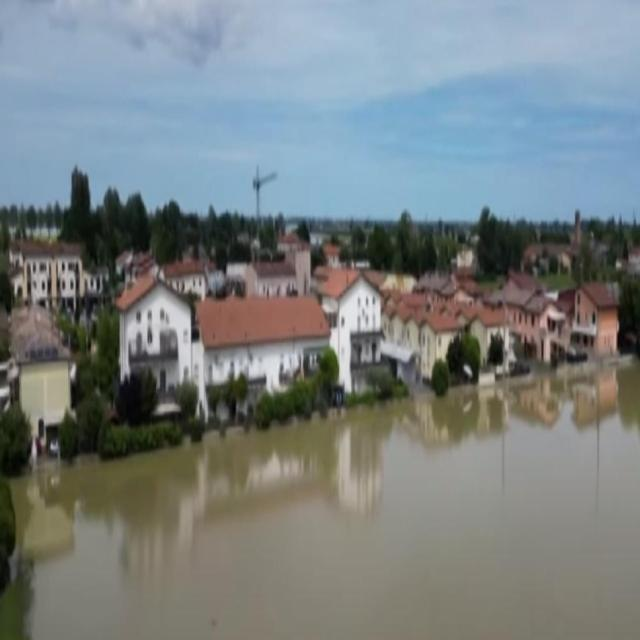flood: (0, 360, 640, 637)
house: (198, 292, 331, 414), (114, 274, 193, 409), (317, 261, 383, 403), (513, 282, 566, 375), (8, 242, 82, 304), (574, 280, 621, 371), (470, 306, 510, 364), (420, 310, 458, 371), (246, 262, 298, 295), (388, 299, 418, 346), (166, 265, 207, 292)
